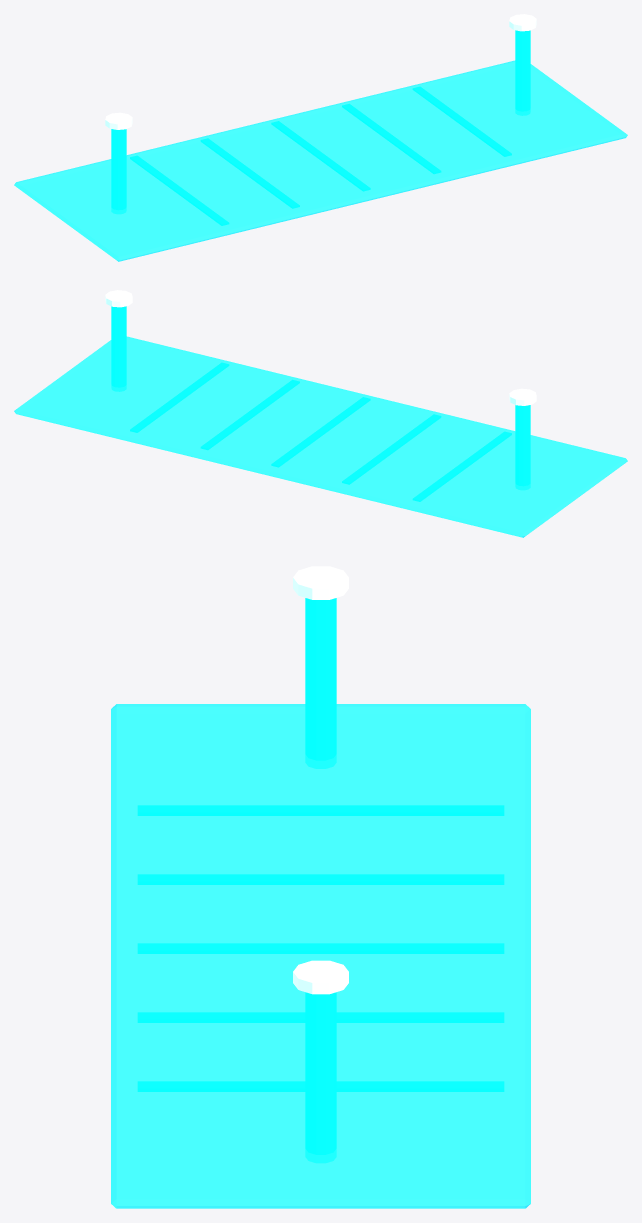
File: boost_water_lane.glb
The picture shows the model from 3 angles, top to bottom: view 1: azimuth 30°, elevation 25°; view 2: azimuth 150°, elevation 25°; view 3: azimuth 270°, elevation 25°; orthographic projection. The views are drawn at different scales.
Visible parts, largest first — view 1: BoostWater_Surface, BoostWater_GlowPost.001, BoostWater_GlowPost, BoostWater_FlowStripe.002, BoostWater_FlowStripe.003, BoostWater_FlowStripe, BoostWater_FlowStripe.001, BoostWater_FlowStripe.004, BoostWater_PostCap.001, BoostWater_PostCap; view 2: BoostWater_Surface, BoostWater_GlowPost.001, BoostWater_GlowPost, BoostWater_FlowStripe.002, BoostWater_FlowStripe.003, BoostWater_FlowStripe, BoostWater_FlowStripe.001, BoostWater_FlowStripe.004, BoostWater_PostCap.001, BoostWater_PostCap; view 3: BoostWater_Surface, BoostWater_GlowPost.001, BoostWater_GlowPost, BoostWater_FlowStripe, BoostWater_FlowStripe.001, BoostWater_FlowStripe.002, BoostWater_FlowStripe.003, BoostWater_FlowStripe.004, BoostWater_PostCap.001, BoostWater_PostCap.
Boxes of the visible parts, x1,y1,x2,y2 form: BoostWater_Surface: (14, 60, 627, 261); BoostWater_GlowPost.001: (515, 30, 530, 115); BoostWater_GlowPost: (111, 129, 126, 213); BoostWater_FlowStripe.002: (271, 121, 370, 191); BoostWater_FlowStripe.003: (342, 103, 441, 174); BoostWater_FlowStripe: (130, 155, 229, 225); BoostWater_FlowStripe.001: (200, 138, 299, 208); BoostWater_FlowStripe.004: (412, 86, 511, 156); BoostWater_PostCap.001: (509, 14, 536, 31); BoostWater_PostCap: (105, 112, 132, 129); BoostWater_Surface: (14, 336, 627, 537); BoostWater_GlowPost.001: (111, 306, 126, 391); BoostWater_GlowPost: (515, 405, 530, 489); BoostWater_FlowStripe.002: (271, 397, 370, 467); BoostWater_FlowStripe.003: (200, 379, 299, 450); BoostWater_FlowStripe: (412, 431, 511, 501); BoostWater_FlowStripe.001: (342, 414, 441, 484); BoostWater_FlowStripe.004: (130, 362, 229, 432); BoostWater_PostCap.001: (105, 290, 132, 307); BoostWater_PostCap: (509, 388, 536, 405); BoostWater_Surface: (111, 704, 530, 1208); BoostWater_GlowPost.001: (305, 992, 336, 1162); BoostWater_GlowPost: (305, 598, 336, 768); BoostWater_FlowStripe: (137, 805, 504, 815); BoostWater_FlowStripe.001: (137, 874, 504, 884); BoostWater_FlowStripe.002: (137, 943, 504, 953); BoostWater_FlowStripe.003: (137, 1012, 504, 1022); BoostWater_FlowStripe.004: (137, 1081, 504, 1091); BoostWater_PostCap.001: (293, 960, 348, 994); BoostWater_PostCap: (293, 566, 348, 599).
Size of the model in its own units: 7.6 by 1.32 by 2.7.
